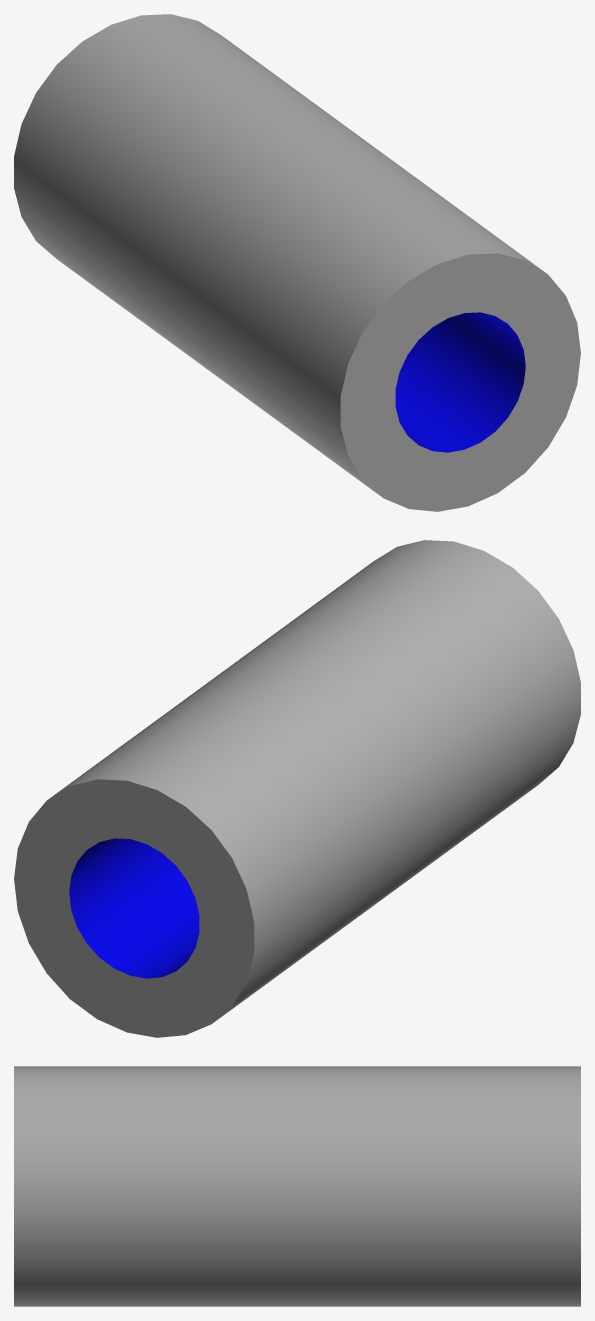
The model's file is Small_Tube_Short.fbx.
3 renders of one model, top to bottom at view 1: azimuth 30°, elevation 25°; view 2: azimuth 150°, elevation 25°; view 3: azimuth 270°, elevation 25°, orthographic. The views are drawn at different scales.
Parts seen in each view (by area): view 1: pasted__pCylinder1; view 2: pasted__pCylinder1; view 3: pasted__pCylinder1.
Boxes of the visible parts, <box> form: pasted__pCylinder1: <box>14,14,580,511</box>; pasted__pCylinder1: <box>14,540,580,1037</box>; pasted__pCylinder1: <box>14,1066,580,1306</box>.
Size of the model in its own units: 1.05 by 1.05 by 2.46.
